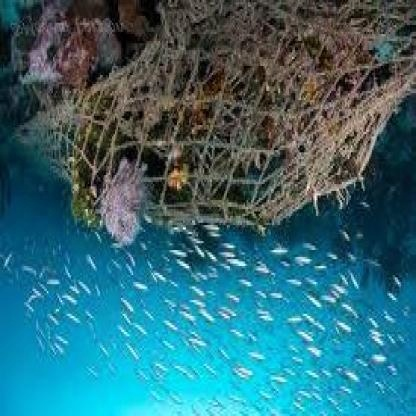net: (33, 2, 416, 216)
